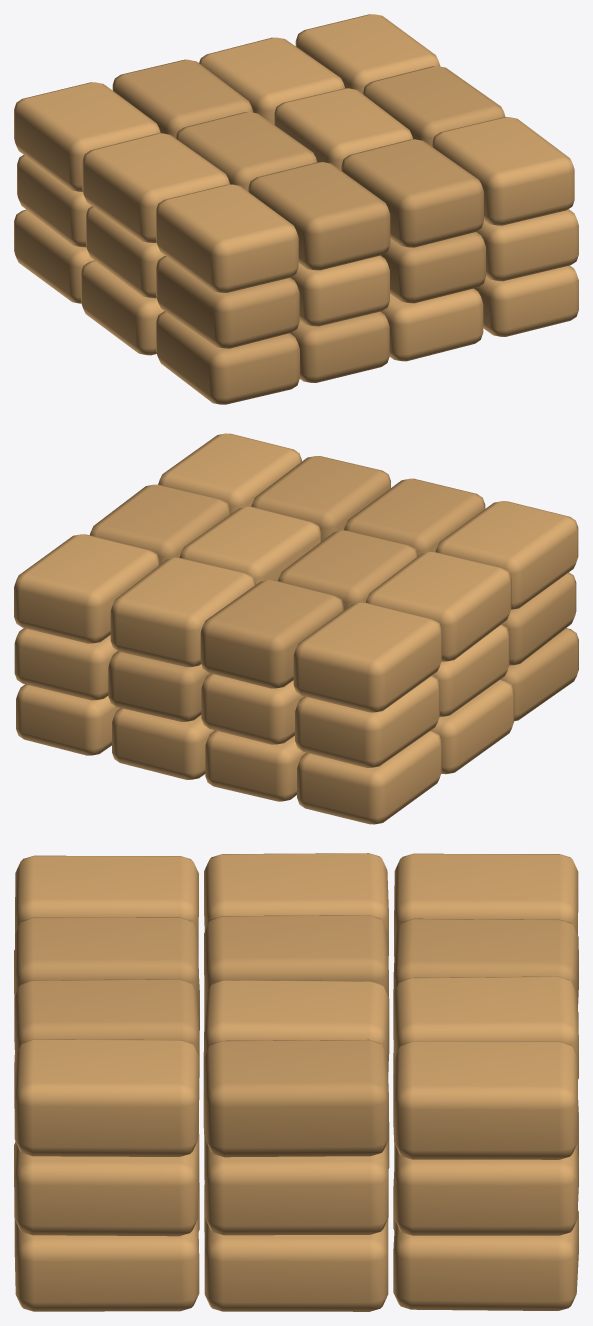
The model's file is NJD-07.glb.
3 renders of one model, top to bottom at view 1: azimuth 30°, elevation 25°; view 2: azimuth 150°, elevation 25°; view 3: azimuth 270°, elevation 25°, orthographic. The views are drawn at different scales.
Visible parts, largest first — view 1: handmade block.024, handmade block.030, handmade block.027, handmade block.033, handmade block.025, handmade block.026, handmade block, handmade block.012, handmade block.031, handmade block.035, handmade block.032, handmade block.029 (+12 smaller); view 2: handmade block.026, handmade block.035, handmade block.029, handmade block.032, handmade block.025, handmade block.024, handmade block.002, handmade block.014, handmade block.031, handmade block.030, handmade block.033, handmade block.034 (+12 smaller); view 3: handmade block.035, handmade block.033, handmade block.034, handmade block.021, handmade block.022, handmade block.010, handmade block.009, handmade block.023, handmade block.011, handmade block.026, handmade block.028, handmade block.032 (+6 smaller).
Boxes of the visible parts, x1,y1,x2,y2 form: handmade block.024: (156,184,298,292); handmade block.030: (341,139,483,247); handmade block.027: (248,162,390,270); handmade block.033: (432,117,574,225); handmade block.025: (82,133,229,242); handmade block.026: (14,82,160,191); handmade block: (156,311,299,404); handmade block.012: (156,256,299,348); handmade block.031: (274,88,412,170); handmade block.035: (295,14,440,93); handmade block.032: (199,37,344,124); handmade block.029: (112,59,253,137); handmade block.026: (293,602,441,712); handmade block.035: (14,534,159,643); handmade block.029: (200,580,343,688); handmade block.032: (110,557,255,667); handmade block.025: (365,552,511,661); handmade block.024: (435,501,578,609); handmade block.002: (297,730,441,824); handmade block.014: (295,675,439,767); handmade block.031: (179,506,321,584); handmade block.030: (251,456,390,541); handmade block.033: (158,433,301,514); handmade block.034: (90,484,230,564); handmade block.035: (394,1041,577,1159); handmade block.033: (14,1039,199,1156); handmade block.034: (204,1039,388,1157); handmade block.021: (14,1132,199,1236); handmade block.022: (204,1133,388,1235); handmade block.010: (204,1217,388,1311); handmade block.009: (14,1210,199,1311); handmade block.023: (394,1133,577,1235); handmade block.011: (393,1210,578,1310); handmade block.026: (394,853,578,956); handmade block.028: (204,915,388,1004); handmade block.032: (393,976,578,1079).
Bounding box in the file's own units: 1.93 × 0.815 × 1.85.
